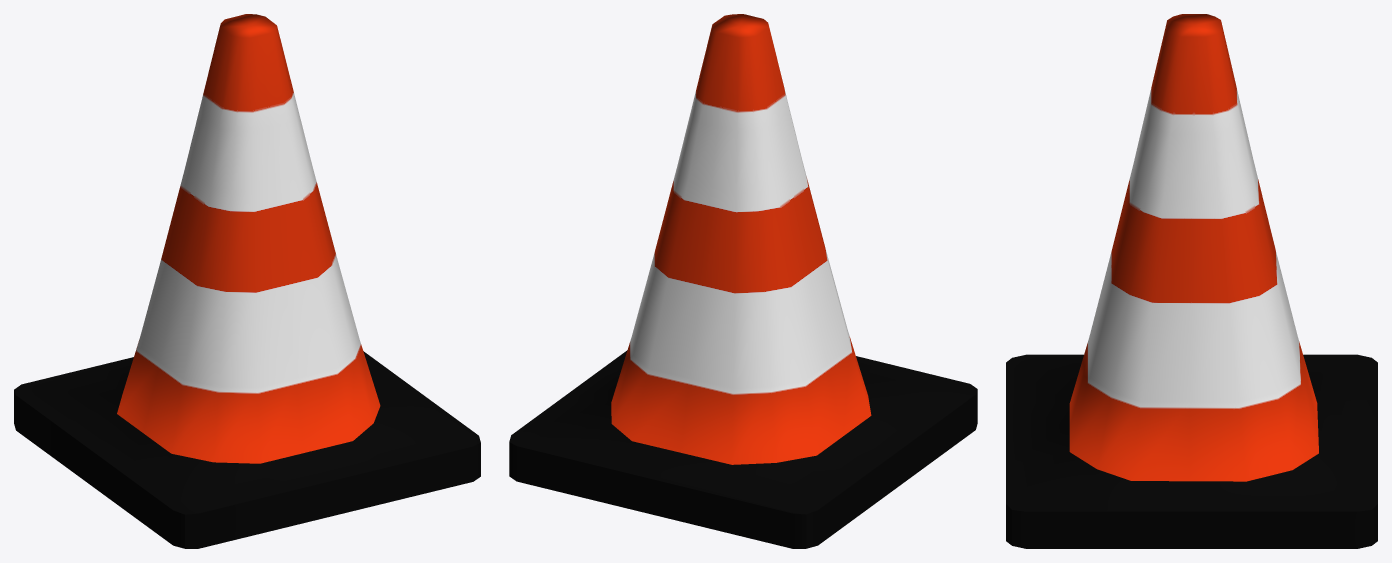
Rendered from Traffic_Cone.fbx.
The picture shows the model from 3 angles, left to right: view 1: azimuth 30°, elevation 25°; view 2: azimuth 150°, elevation 25°; view 3: azimuth 270°, elevation 25°; orthographic projection. The views are drawn at different scales.
Visible parts, largest first — view 1: pCube12; view 2: pCube12; view 3: pCube12.
Boxes of the visible parts, bbox=[...] form: pCube12: bbox=[14, 14, 480, 548]; pCube12: bbox=[509, 14, 977, 548]; pCube12: bbox=[1006, 14, 1377, 548].
Size of the model in its own units: 79.26 by 105 by 79.26.
